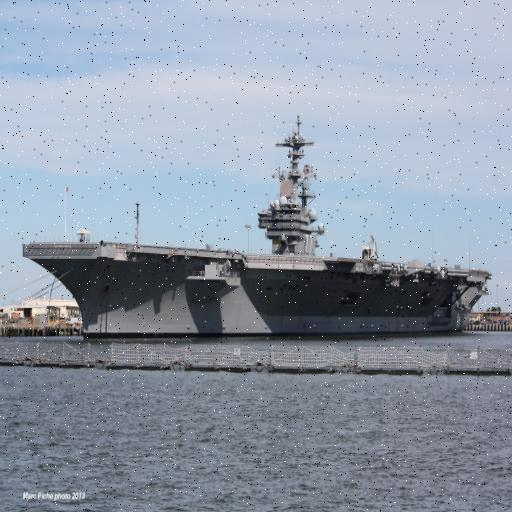Portanaves: (18, 108, 497, 340)
